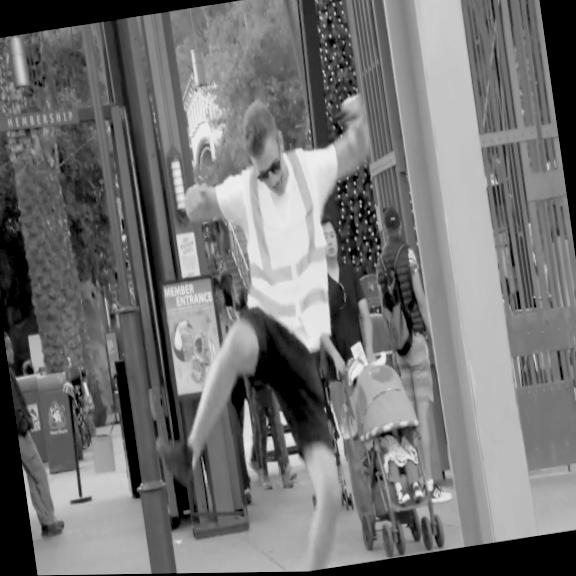safety_vest: (226, 146, 340, 352)
